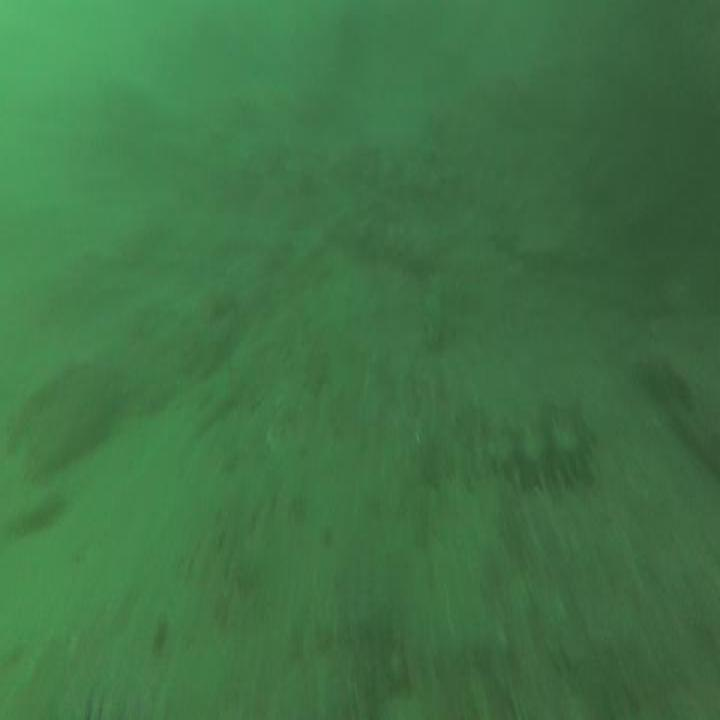holothurian: (495, 425, 588, 494), (424, 279, 444, 350)
